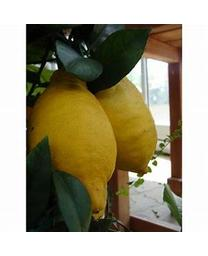lemon: (29, 73, 118, 215), (100, 76, 157, 177)
